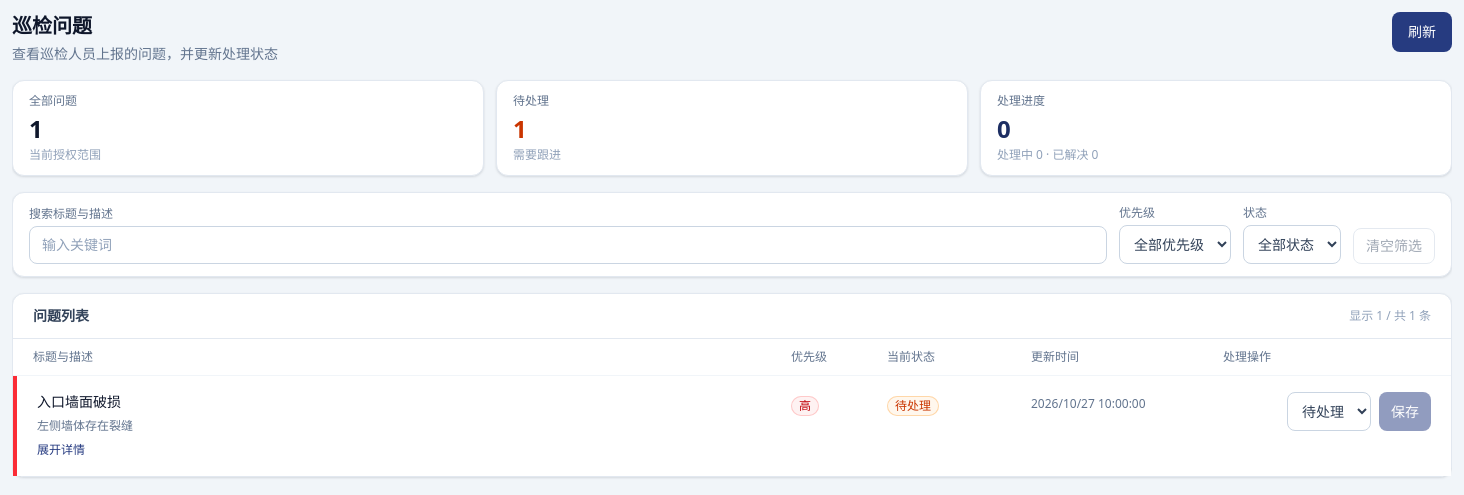
Scenario: 状态编辑与保存 › 只切换下拉框不发送请求，保存按钮按是否变化启用
The width and height of the screenshot is (1464, 495).
Expected: the heading "入口墙面破损" is shown, [37,392,121,411]
Expected: the button "保存" is disabled, [1379,392,1431,431]
Step 1. Select "处理中" in the dropdown named "修改问题「入口墙面破损」的处理状态" → (1329, 412), box [1287,392,1371,431]
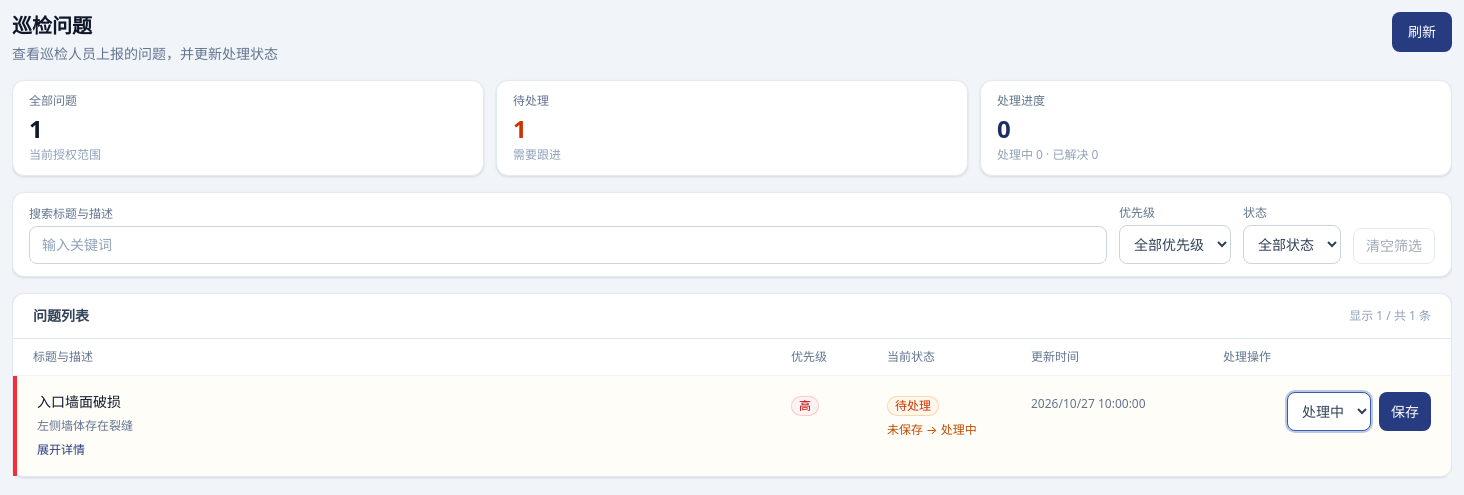
Expected: the button "保存" is enabled, [1379,392,1431,431]
